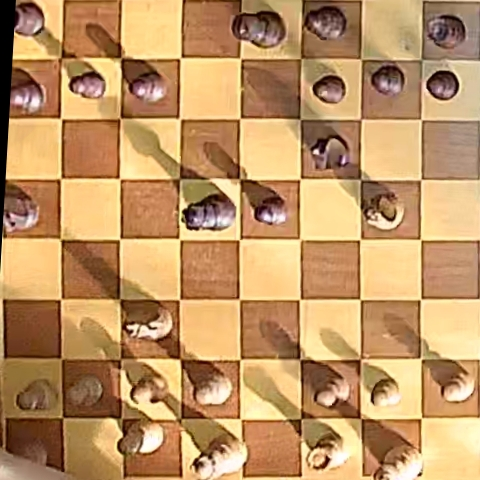black-bishop: (304, 6, 347, 40), (69, 71, 105, 99)
black-king: (232, 10, 285, 47)
black-knight: (4, 194, 39, 232), (311, 135, 349, 169)
black-pawn: (11, 81, 46, 114), (130, 72, 167, 103), (371, 65, 405, 96), (426, 70, 459, 100), (312, 75, 346, 104), (254, 197, 288, 225)
black-queen: (183, 194, 235, 230)
black-rook: (425, 14, 465, 49), (14, 2, 44, 36)
white-bishop: (117, 420, 165, 457)
white-king: (376, 444, 423, 480)
white-knight: (123, 304, 172, 341), (362, 192, 403, 230)
white-pawn: (193, 370, 233, 406), (131, 371, 169, 405), (441, 367, 476, 403), (17, 379, 56, 411), (67, 374, 104, 407), (312, 375, 349, 408), (371, 378, 402, 407)
white-queen: (192, 435, 247, 480)
white-rook: (307, 433, 349, 473)
